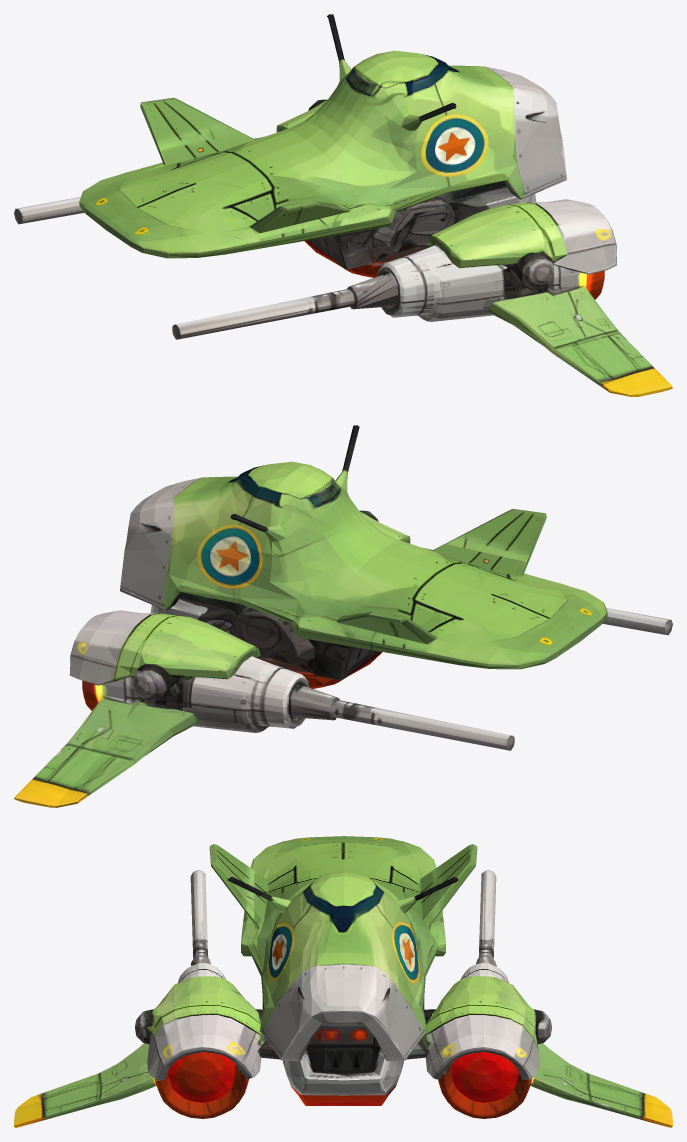
Rendered from Meshy_AI_Green_Sky_Tank_0529140100_texture.glb.
3 views of the same model, one above another, from view 1: azimuth 30°, elevation 25°; view 2: azimuth 150°, elevation 25°; view 3: azimuth 270°, elevation 25° (orthographic). The views are drawn at different scales.
Size of the model in its own units: 1.37 by 0.6536 by 1.9.
Materials: 1 (1 with a texture image).
